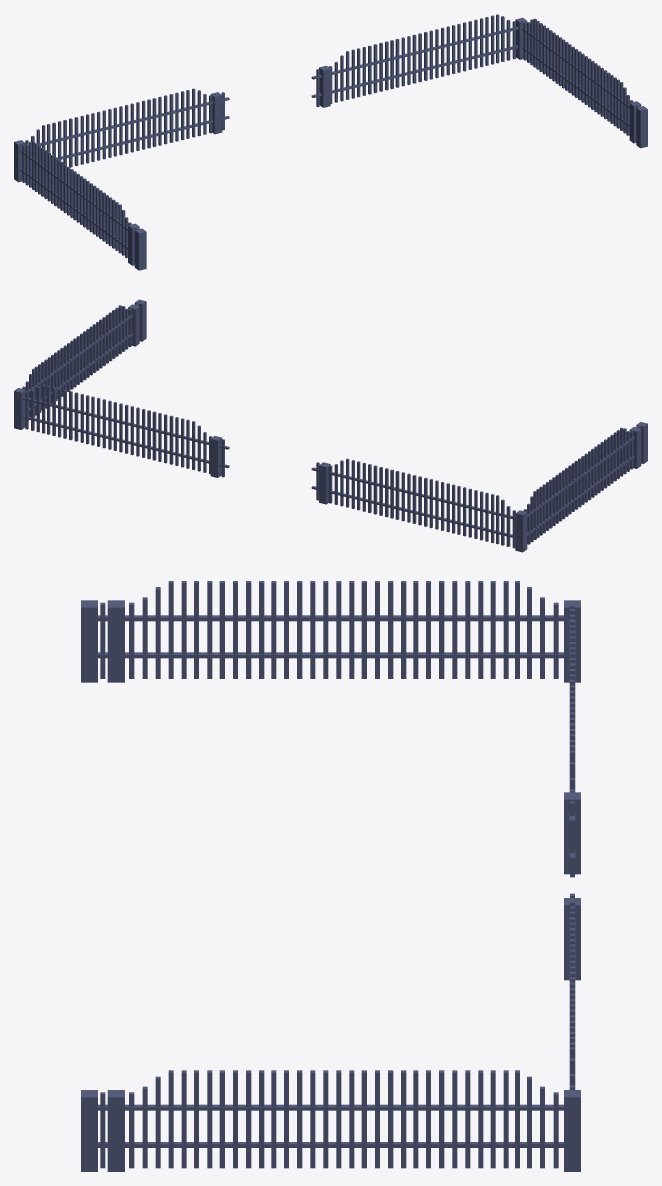
File: GateFence.fbx
3 renders of one model, top to bottom at view 1: azimuth 30°, elevation 25°; view 2: azimuth 150°, elevation 25°; view 3: azimuth 270°, elevation 25°, orthographic. The views are drawn at different scales.
Visible parts, largest first — view 1: Gate2.002, Base.001, Base.002; view 2: Gate2.002, Base.002, Base.001; view 3: Gate2.002, Base.002, Base.001.
Boxes of the visible parts, x1=… form: Gate2.002: x1=20, y1=14, x2=647, y2=270; Base.001: x1=210, y1=65, x2=330, y2=134; Base.002: x1=14, y1=17, x2=527, y2=182; Gate2.002: x1=22, y1=299, x2=647, y2=548; Base.002: x1=14, y1=388, x2=527, y2=552; Base.001: x1=210, y1=436, x2=330, y2=504; Gate2.002: x1=81, y1=581, x2=575, y2=1171; Base.002: x1=564, y1=600, x2=580, y2=1171; Base.001: x1=564, y1=792, x2=580, y2=980.
Size of the model in its own units: 28.5 by 2.59 by 12.13.
